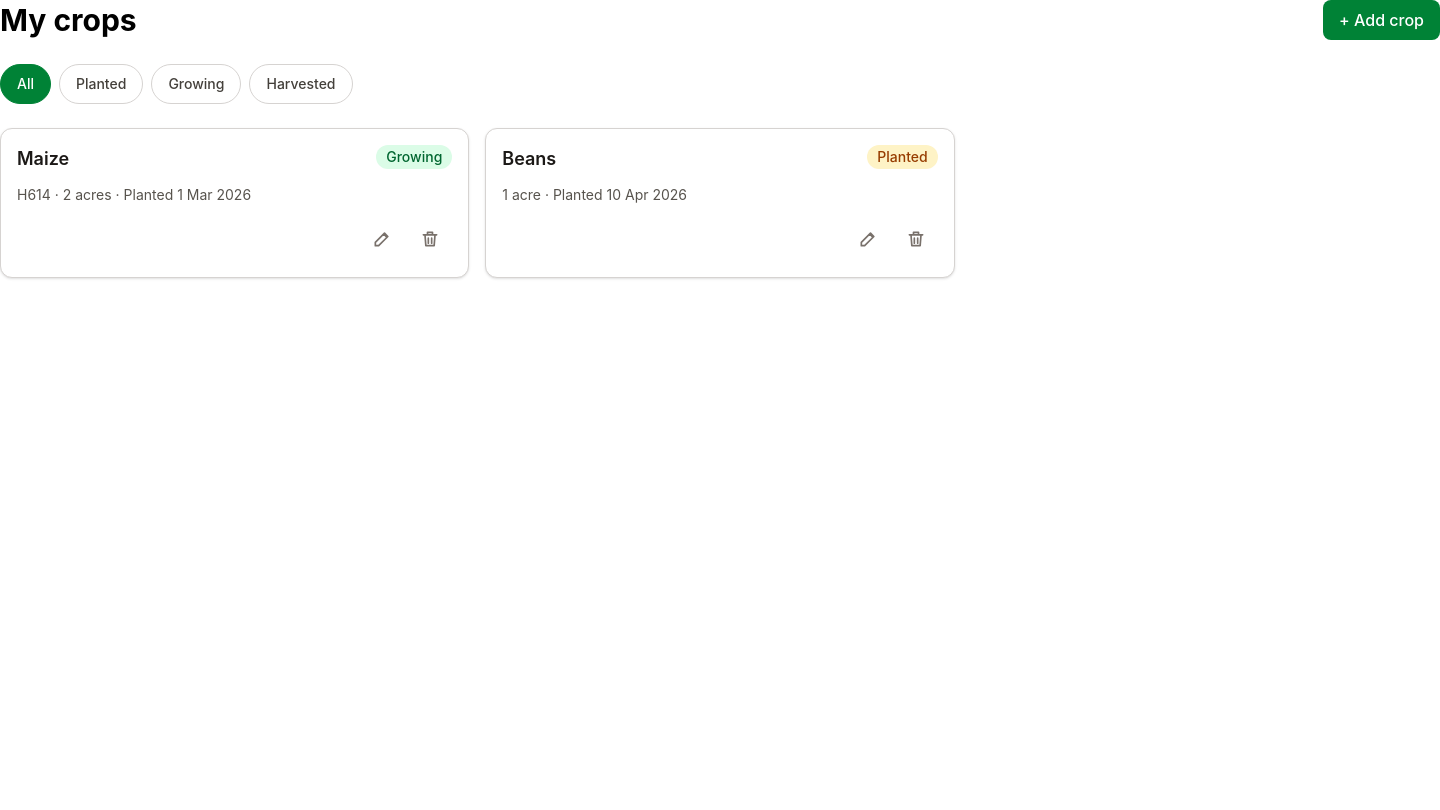
Test case: Crops page › closes the add form and shows the toast immediately after saving
Click the button "+ Add crop" at (1382, 20), box [1323,0,1439,40]
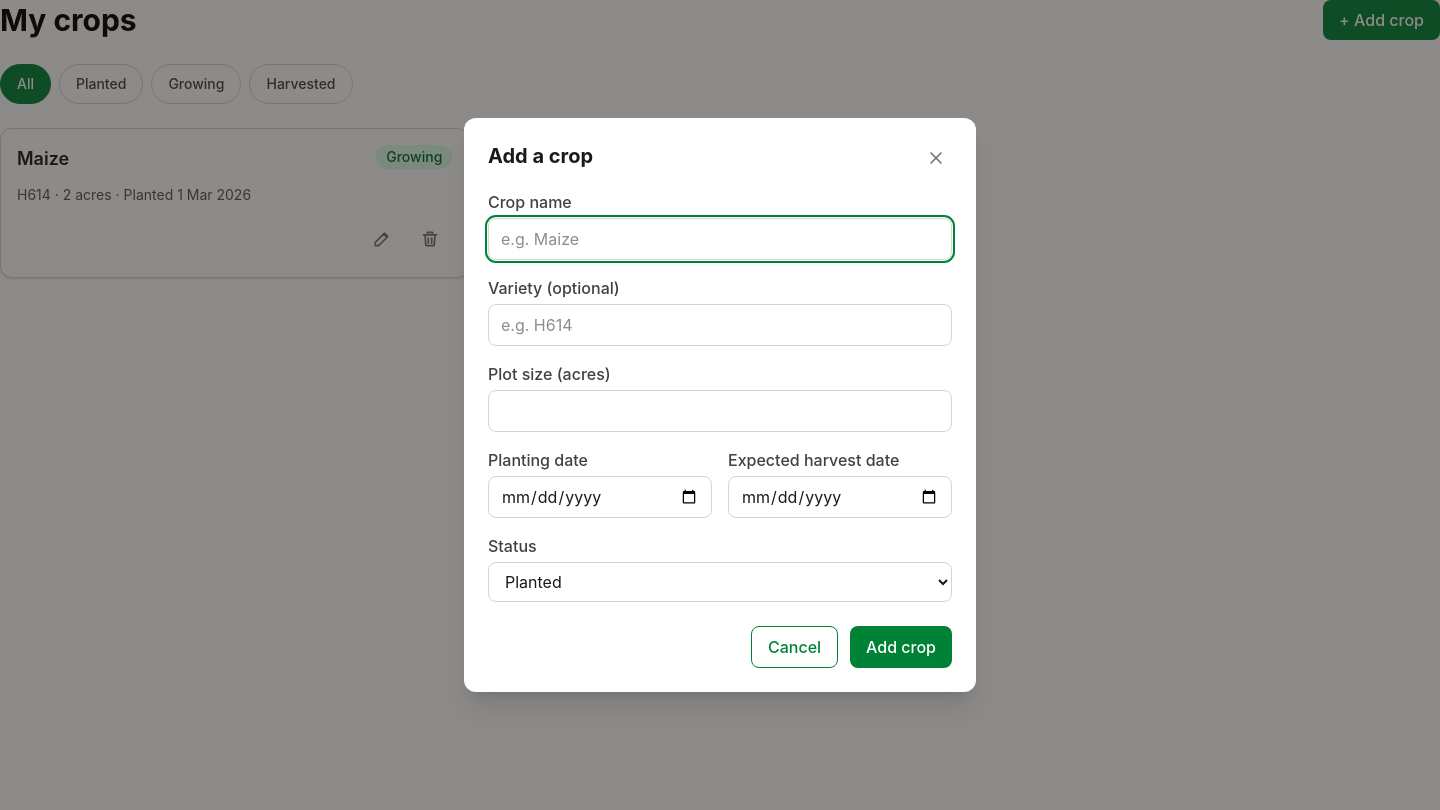
Type "Sorghum" into the field labelled "Crop name" at (720, 239), box [488,218,952,260]
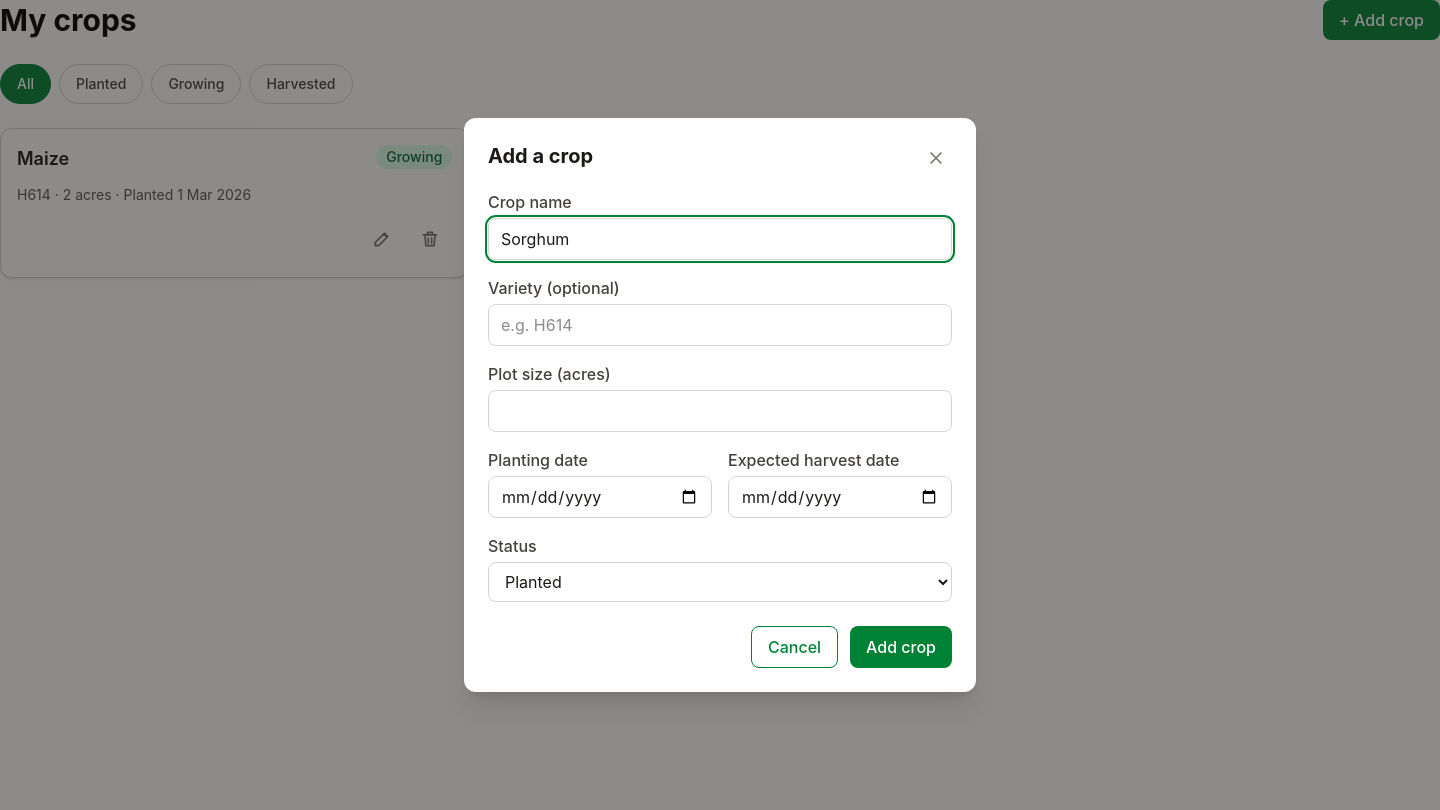
Type "3" into the number field labelled "Plot size (acres)" at (720, 411), box [488,390,952,432]
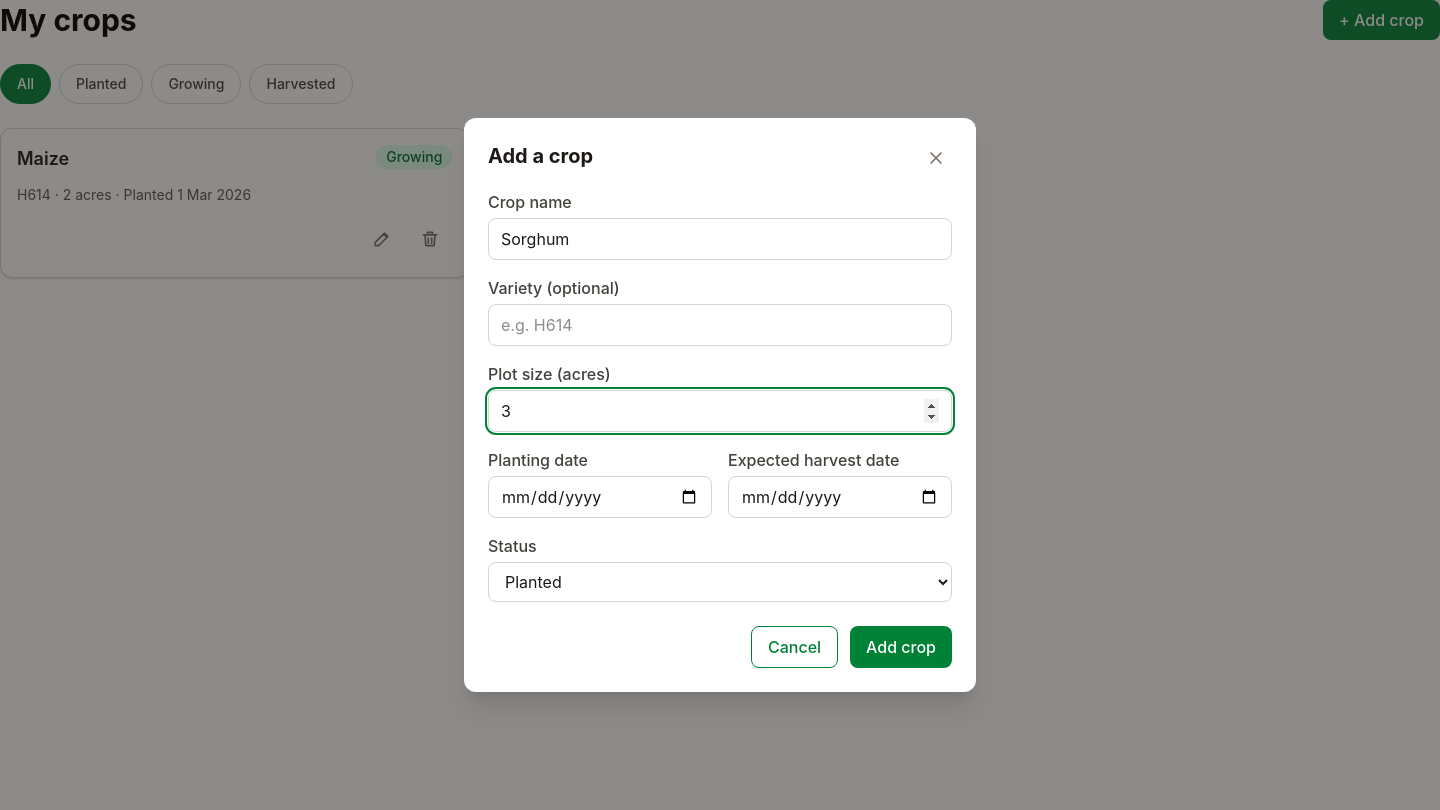
Type "2026-05-01" into the date field labelled "Planting date" at (600, 497), box [488,476,712,518]
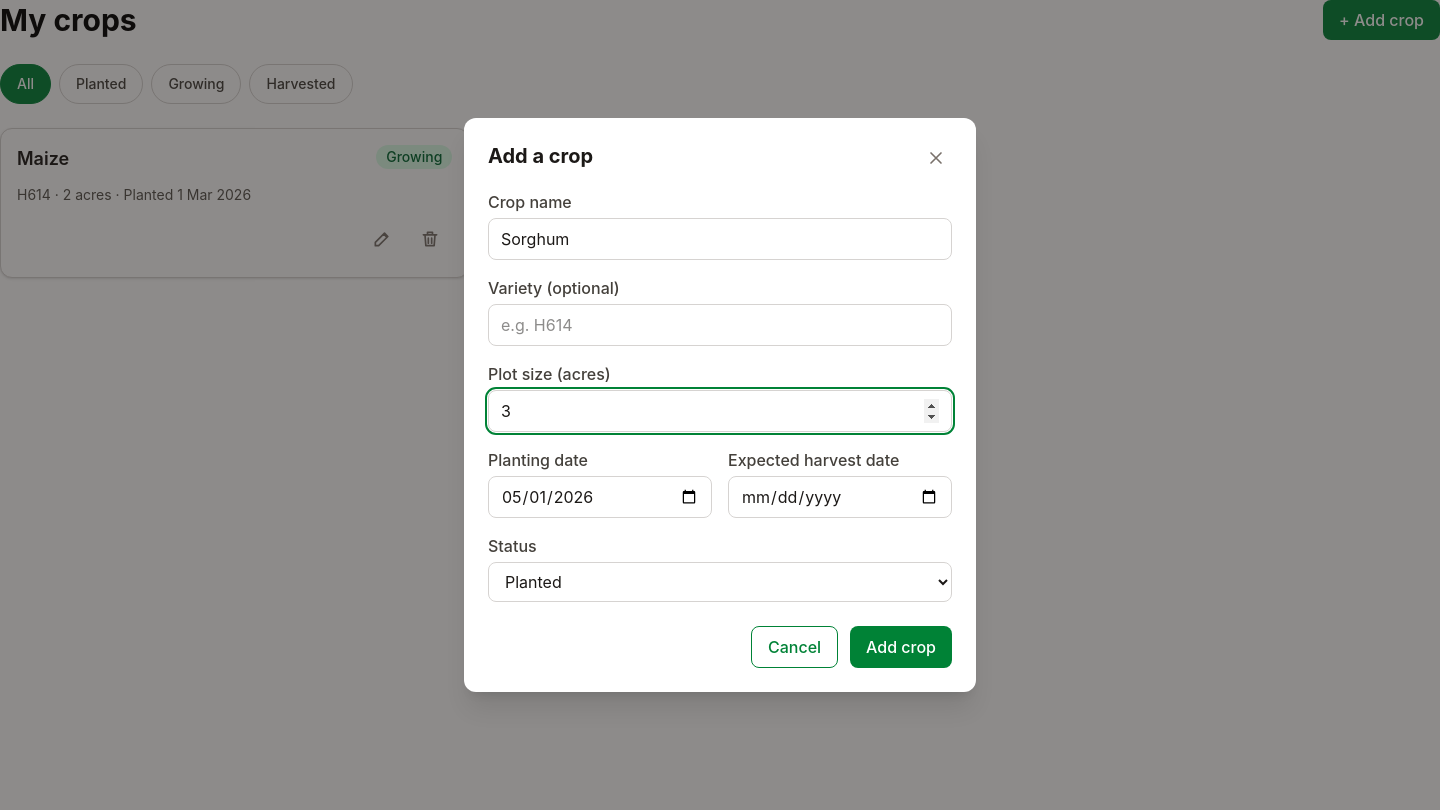
Click the button "Add crop" at (901, 647), box [850,626,952,668]
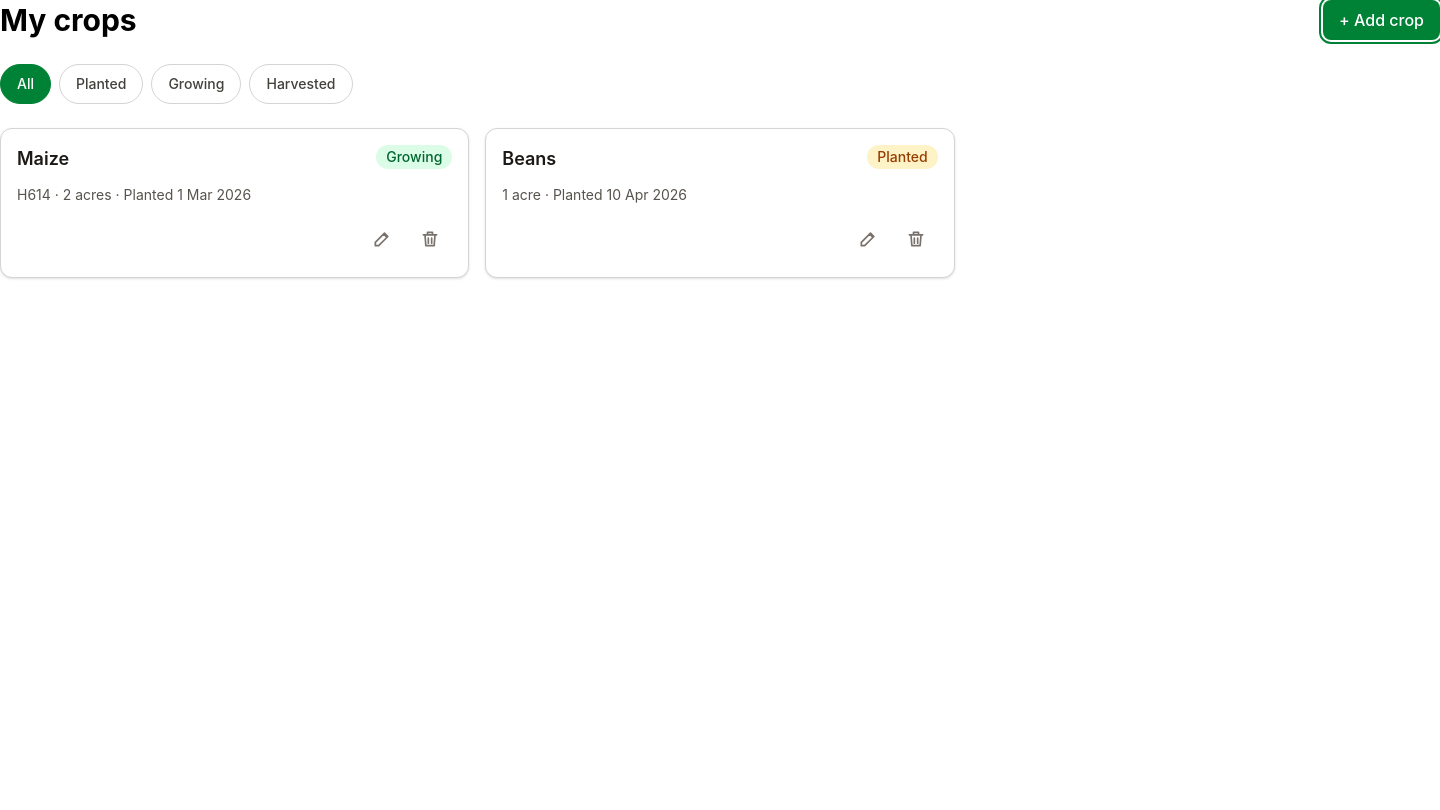
Expected: the dialog is gone
